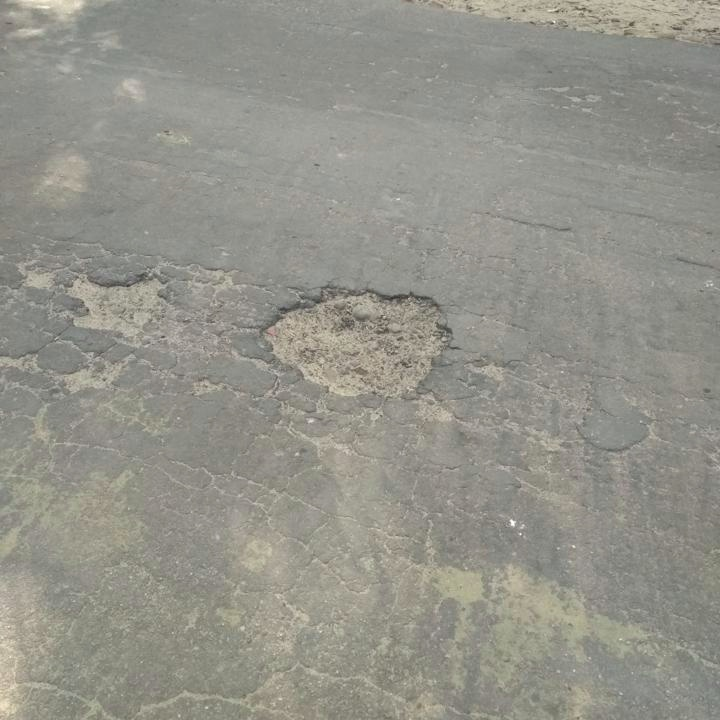pothole: (255, 282, 452, 400), (61, 266, 171, 336)
